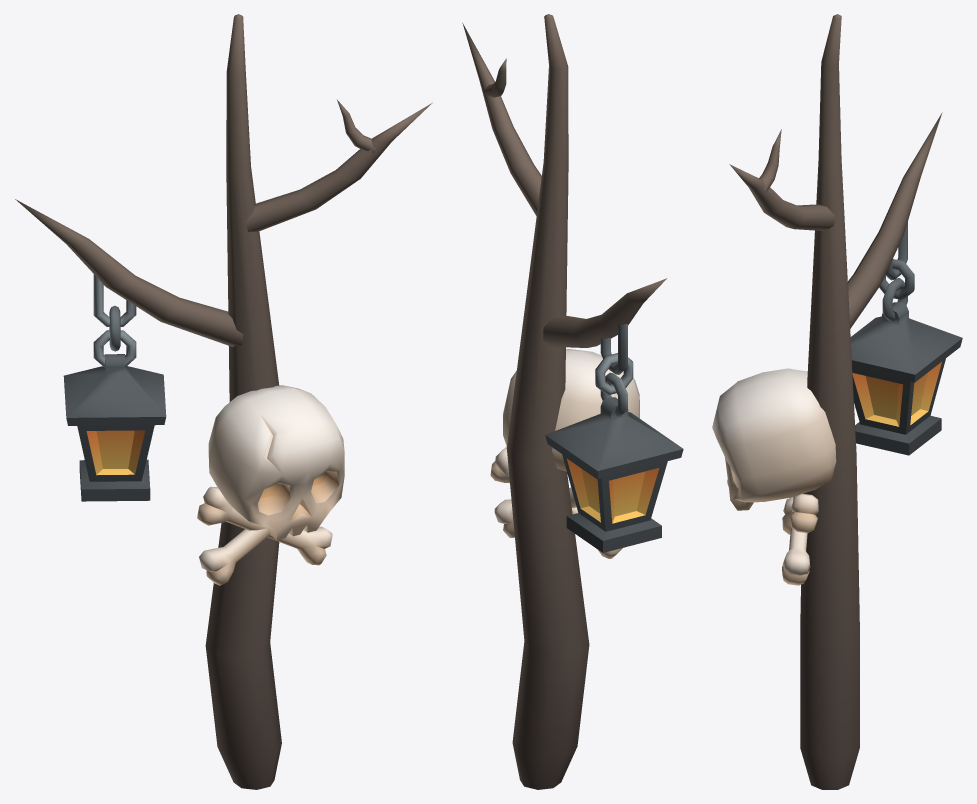
Rendered from tree_dead_large_decorated.obj.
The picture shows the model from 3 angles, left to right: view 1: azimuth 30°, elevation 25°; view 2: azimuth 150°, elevation 25°; view 3: azimuth 270°, elevation 25°; orthographic projection.
Visible parts, largest first — view 1: tree_dead_large_decorated_Cylinder.095; view 2: tree_dead_large_decorated_Cylinder.095; view 3: tree_dead_large_decorated_Cylinder.095.
Boxes of the visible parts, box(x1,y1,x2,y2) form: tree_dead_large_decorated_Cylinder.095: box(15, 14, 432, 789); tree_dead_large_decorated_Cylinder.095: box(462, 14, 683, 789); tree_dead_large_decorated_Cylinder.095: box(712, 14, 962, 789).
Size of the model in its own units: 2.3 by 5.42 by 1.61.
1 material, 1 textured.
